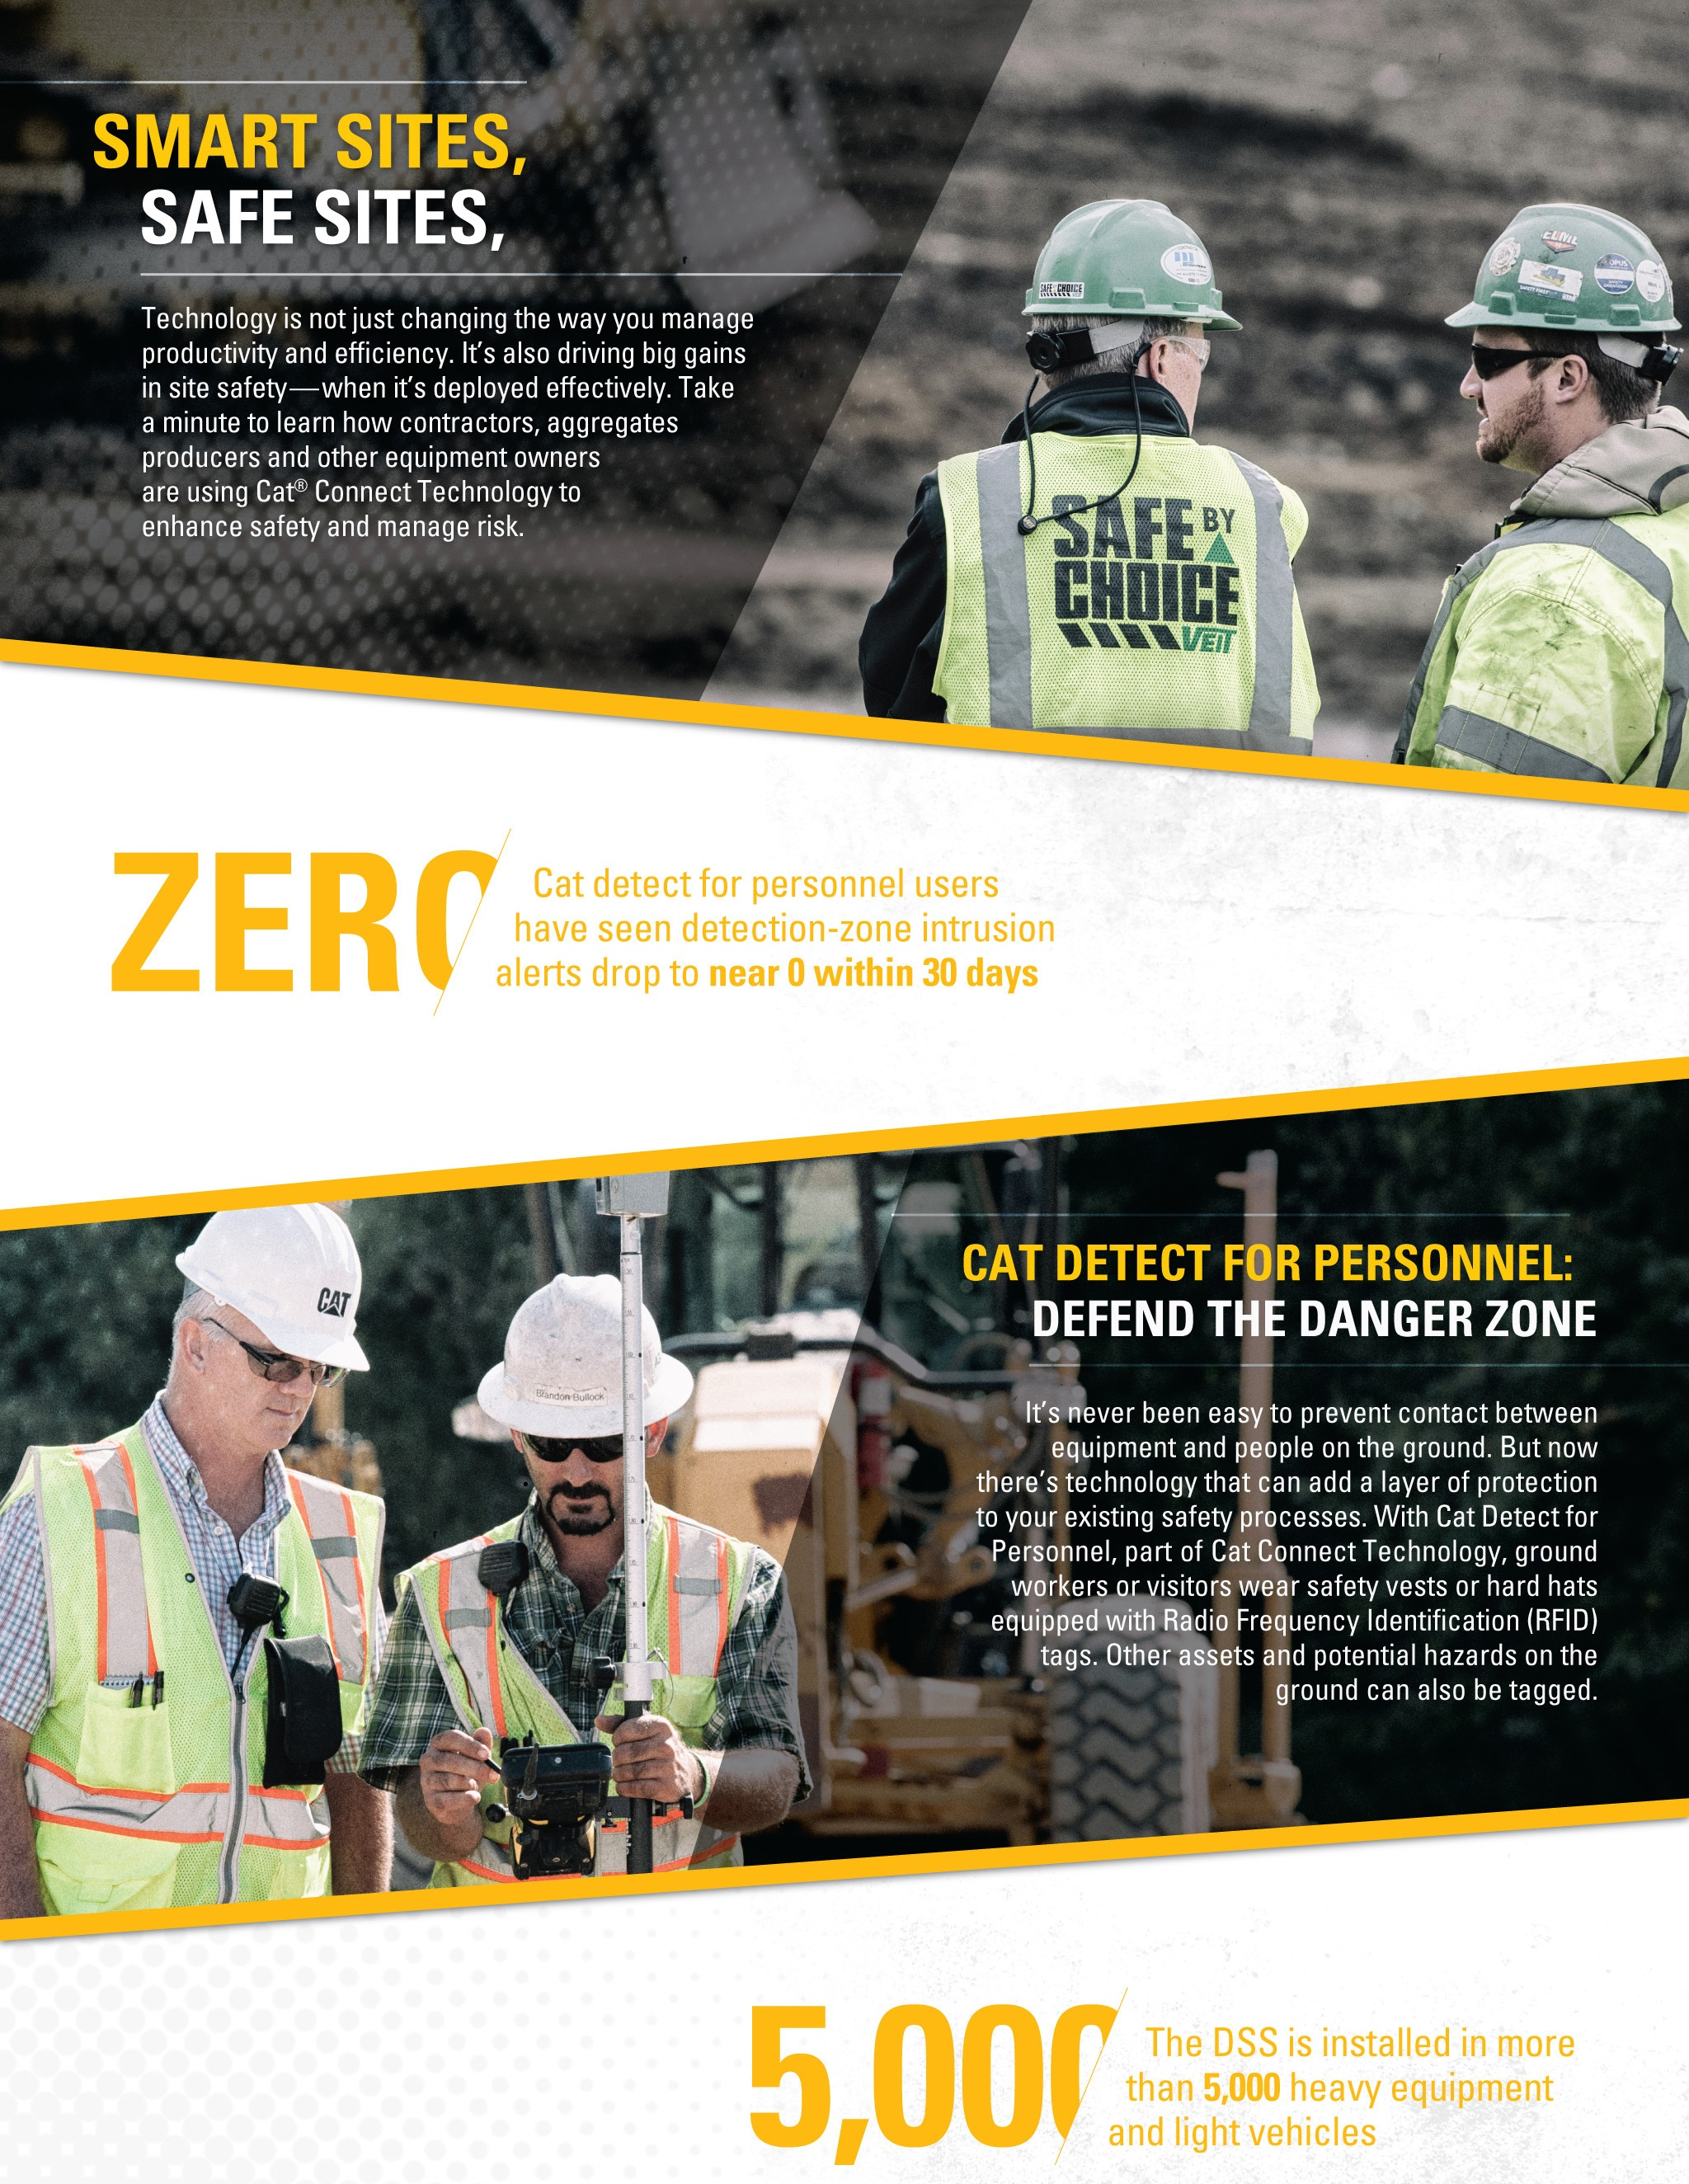helmet: (465, 1278, 689, 1454), (170, 1208, 380, 1383), (1438, 200, 1682, 350), (1017, 203, 1237, 333)
person with full safety: (5, 1218, 398, 1921), (880, 187, 1326, 766), (387, 1269, 802, 1878), (1386, 198, 1689, 770)
safety vest: (32, 1435, 369, 1908), (406, 1499, 760, 1882), (930, 430, 1317, 751), (1393, 503, 1689, 788)
